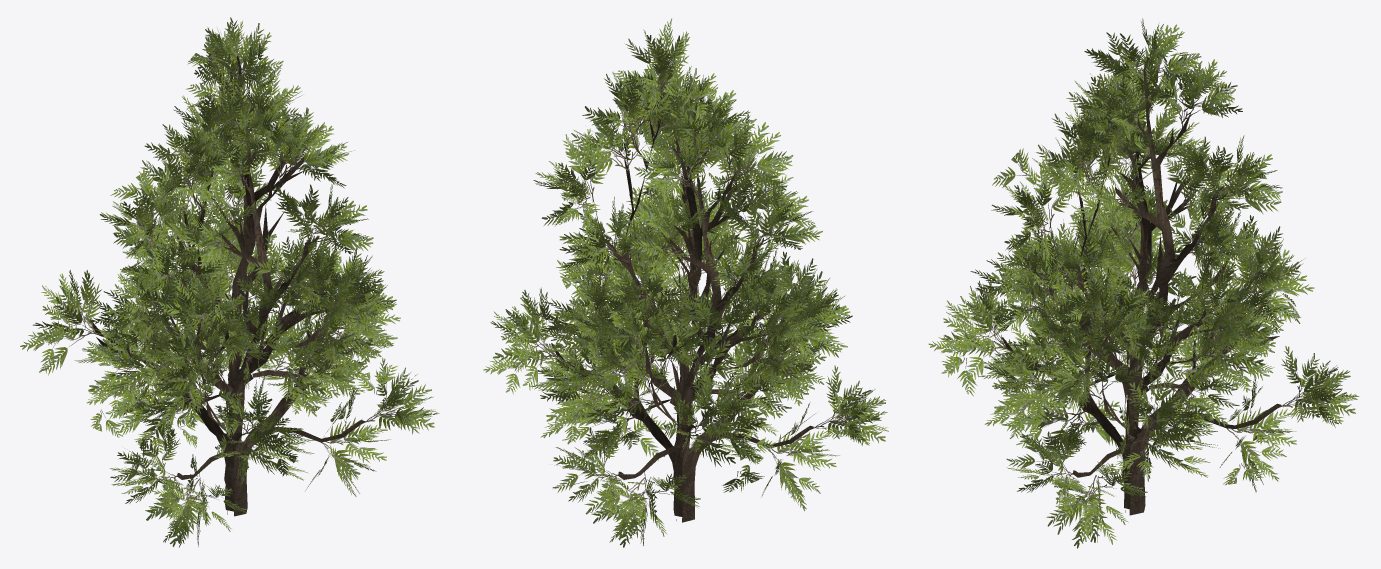
The model's file is tree-0-far.glb.
3 renders of one model, left to right at view 1: azimuth 30°, elevation 25°; view 2: azimuth 150°, elevation 25°; view 3: azimuth 270°, elevation 25°, orthographic. The views are drawn at different scales.
Visible parts, largest first — view 1: Object_5342.001, Object_5340.001; view 2: Object_5342.001, Object_5340.001; view 3: Object_5342.001, Object_5340.001.
Boxes of the visible parts, x1,y1,x2,y2 form: Object_5342.001: (20, 17, 439, 547); Object_5340.001: (90, 55, 365, 516); Object_5342.001: (483, 18, 888, 547); Object_5340.001: (551, 84, 813, 522); Object_5342.001: (928, 18, 1359, 548); Object_5340.001: (1001, 56, 1281, 515).
Size of the model in its own units: 5.77 by 7.96 by 6.37.
Materials: 2 (2 with a texture image).
